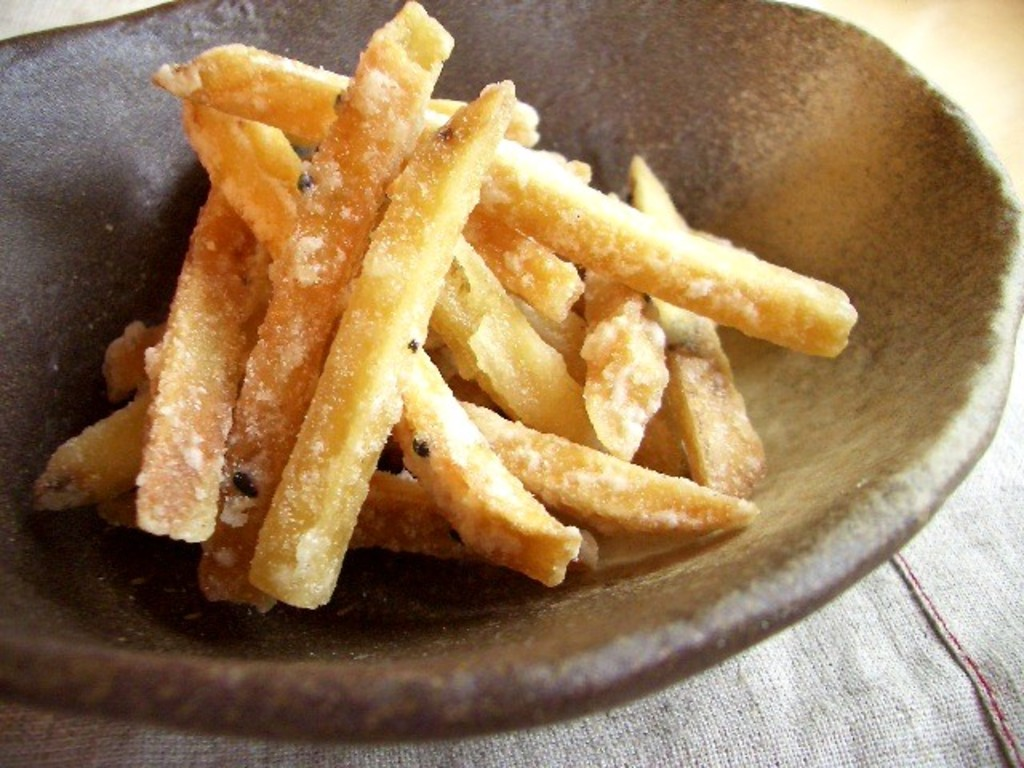French fries: (48, 49, 846, 596)
